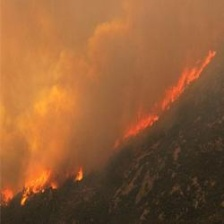fire: (121, 55, 210, 154), (17, 162, 95, 209)
smoke: (11, 1, 115, 130)
